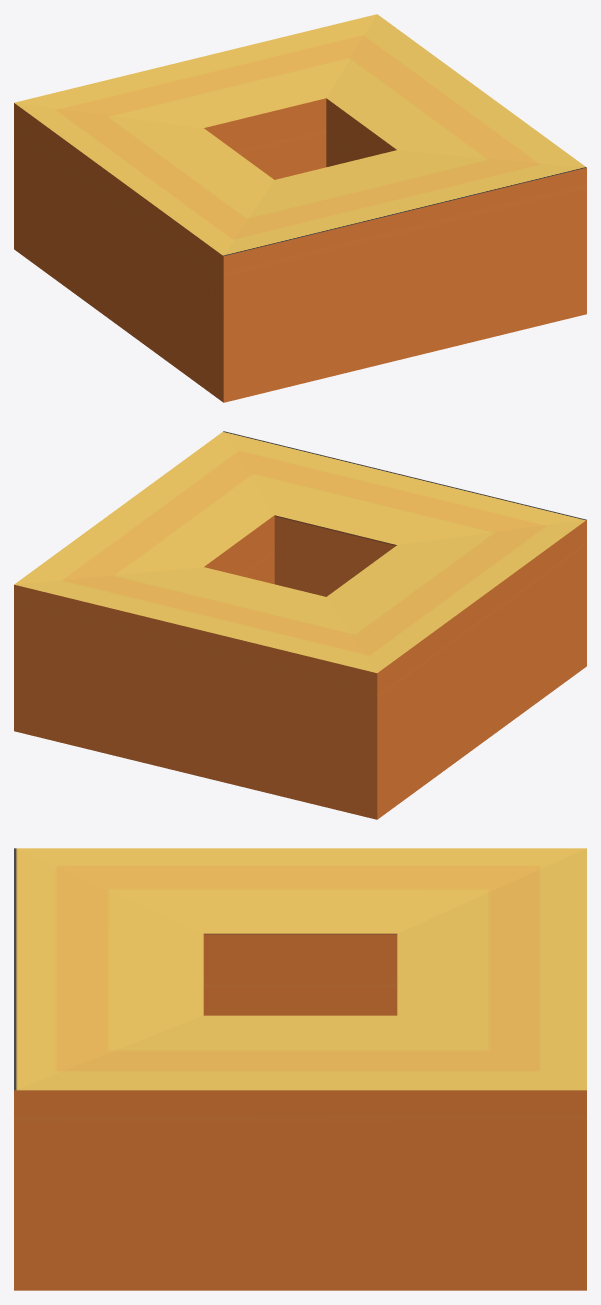
File: OrangeDonut.fbx
3 renders of one model, top to bottom at view 1: azimuth 30°, elevation 25°; view 2: azimuth 150°, elevation 25°; view 3: azimuth 270°, elevation 25°, orthographic. The views are drawn at different scales.
Parts seen in each view (by area): view 1: Cube.001; view 2: Cube.001; view 3: Cube.001.
Boxes of the visible parts, <box> form: Cube.001: <box>14,14,586,402</box>; Cube.001: <box>14,431,586,819</box>; Cube.001: <box>14,848,586,1290</box>.
Bounding box in the file's own units: 385 × 148 × 385.
1 material, 1 textured.
